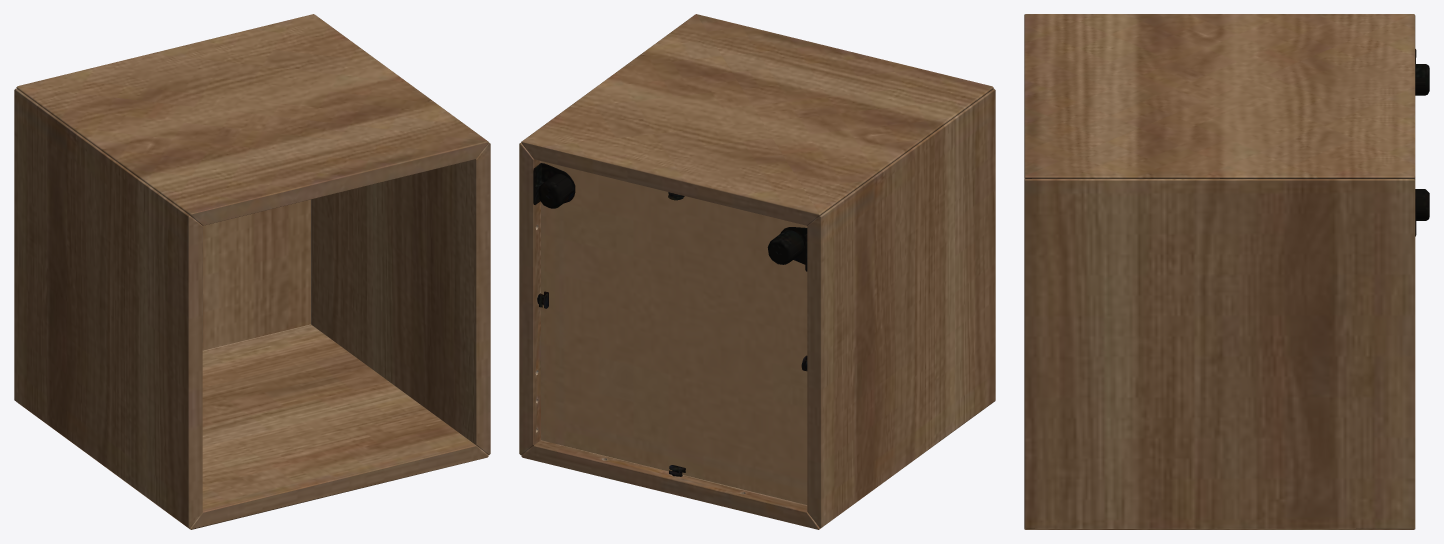
Rendered from 21 - EKET Cabinet - brown walnut effect 35x35x35 cm.glb.
3 renders of one model, left to right at view 1: azimuth 30°, elevation 25°; view 2: azimuth 150°, elevation 25°; view 3: azimuth 270°, elevation 25°, orthographic. The views are drawn at different scales.
Visible parts, largest first — view 1: ASY_ART_60530577_S01_NV01; view 2: ASY_ART_60530577_S01_NV01; view 3: ASY_ART_60530577_S01_NV01.
Boxes of the visible parts, left/top/right/bottom form: ASY_ART_60530577_S01_NV01: left=14, top=14, right=490, bottom=529; ASY_ART_60530577_S01_NV01: left=519, top=14, right=995, bottom=529; ASY_ART_60530577_S01_NV01: left=1024, top=14, right=1429, bottom=529.
Size of the model in its own units: 0.35 by 0.35 by 0.363.
Materials: 1 (1 with a texture image).
